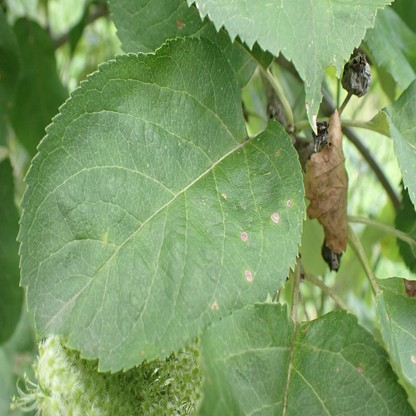frogeye: (404, 278, 416, 297), (245, 268, 254, 282), (270, 213, 280, 224), (312, 114, 318, 131), (241, 229, 248, 243), (210, 300, 219, 309), (101, 234, 107, 245), (178, 18, 184, 28), (357, 366, 364, 374), (410, 353, 415, 364), (301, 326, 308, 333), (304, 101, 308, 113), (335, 365, 340, 374), (286, 200, 292, 206), (222, 193, 227, 200), (275, 151, 278, 155)
